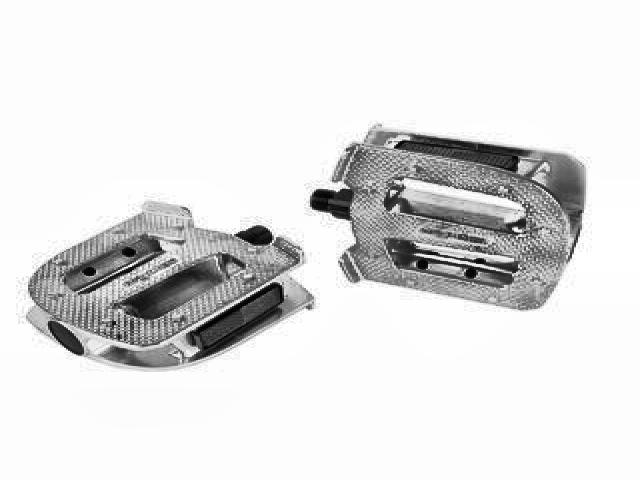pedal: (307, 119, 600, 317), (15, 200, 318, 376)
